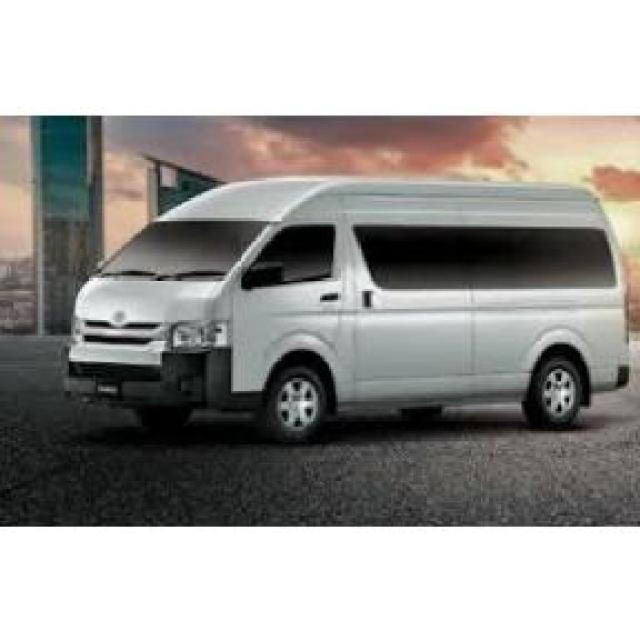Van: (67, 174, 633, 439)
